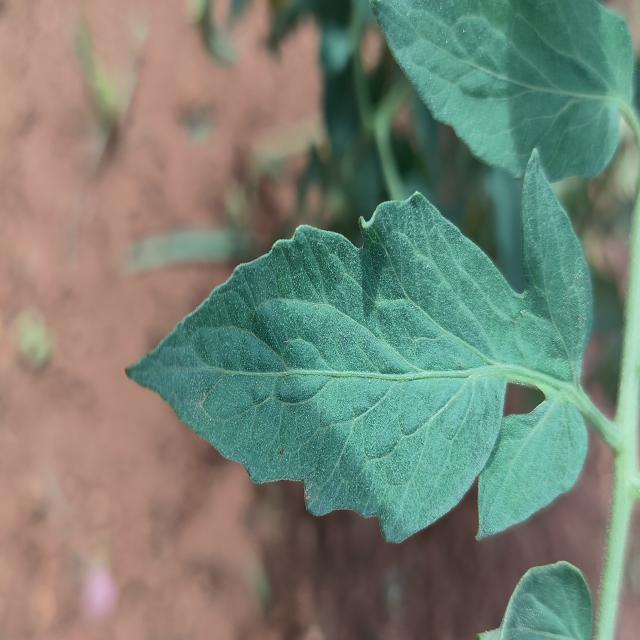tomato_healthy: (128, 150, 614, 542), (372, 0, 635, 179)
